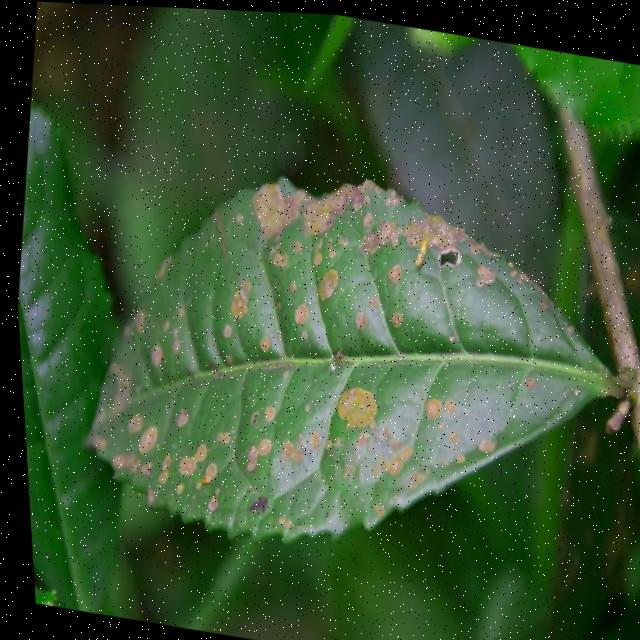Tea algae leaf spot: (78, 150, 611, 564)
